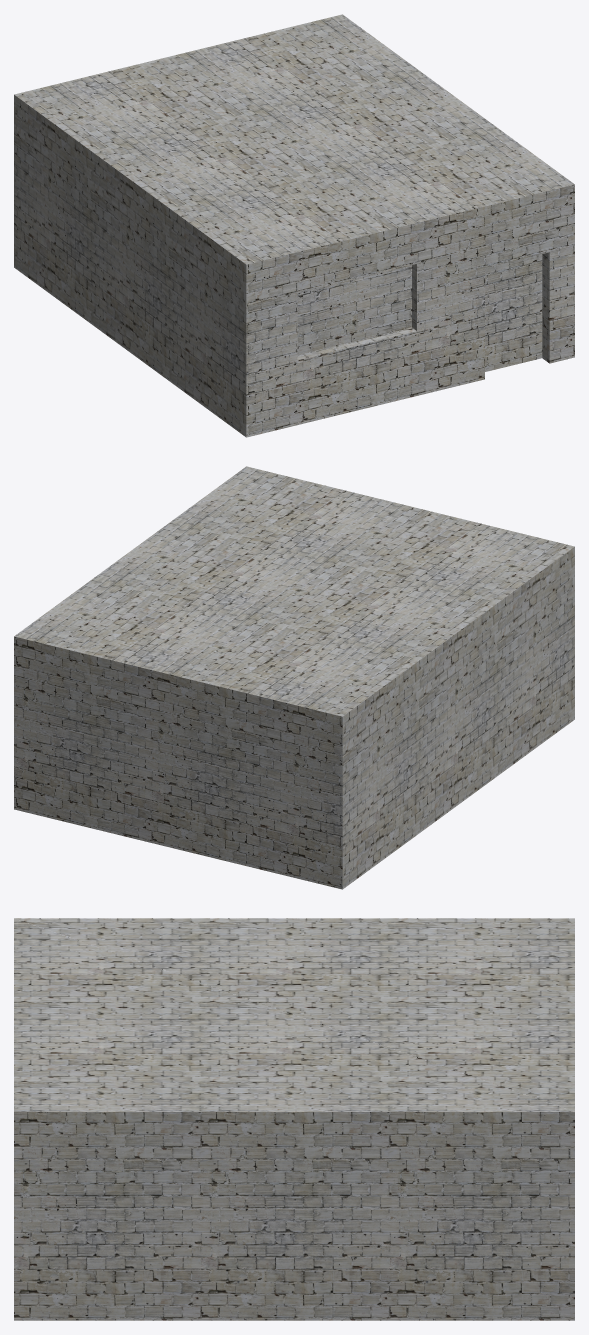
File: casaBloque.glb
3 views of the same model, one above another, from view 1: azimuth 30°, elevation 25°; view 2: azimuth 150°, elevation 25°; view 3: azimuth 270°, elevation 25° (orthographic). The views are drawn at different scales.
Parts seen in each view (by area): view 1: casaBloque; view 2: casaBloque; view 3: casaBloque.
Boxes of the visible parts, left/top/right/bottom form: casaBloque: left=14, top=14, right=574, bottom=437; casaBloque: left=14, top=466, right=574, bottom=889; casaBloque: left=14, top=918, right=574, bottom=1320.
Size of the model in its own units: 7.95 by 4 by 9.74.
1 material, 1 textured.
